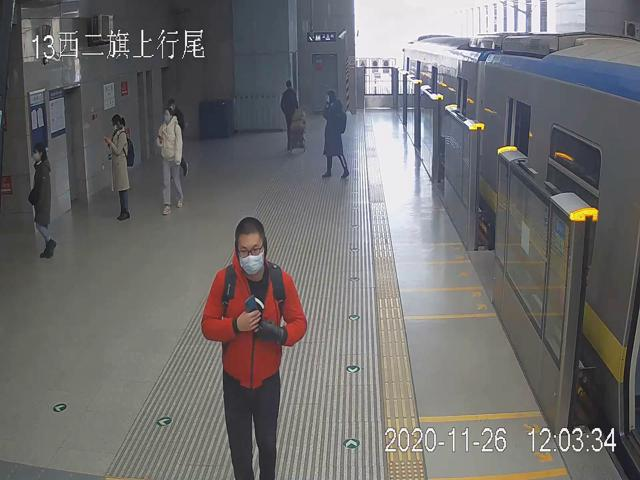person: (202, 215, 307, 480), (156, 107, 186, 215), (29, 144, 56, 260), (107, 115, 132, 220), (322, 88, 348, 180)
